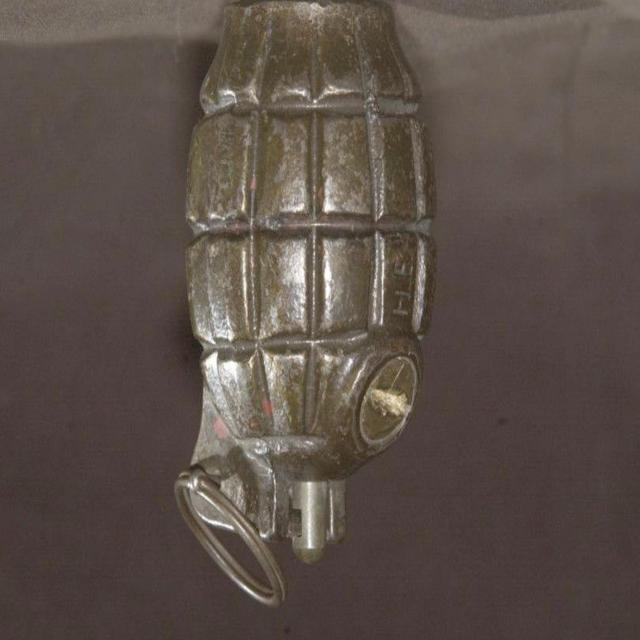grenade: (178, 2, 435, 607)
